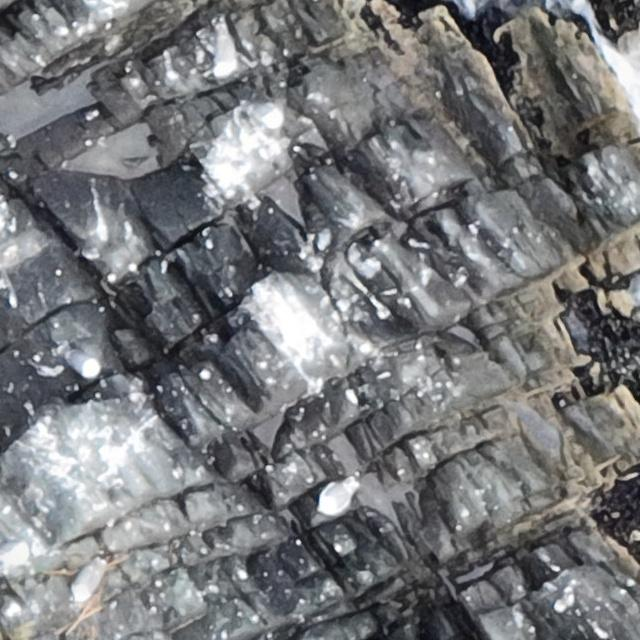umineko: (318, 476, 359, 518), (74, 556, 106, 604), (65, 348, 103, 380)
